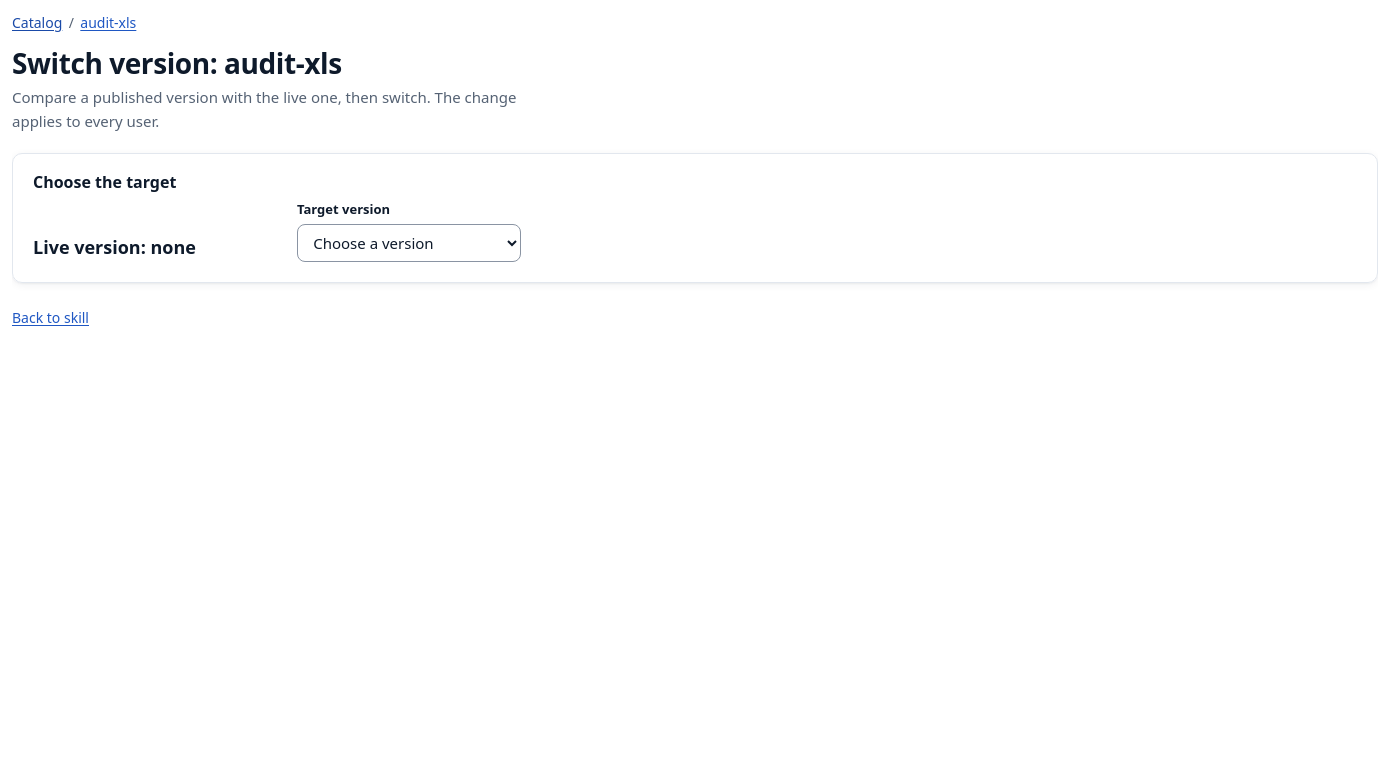
Scenario: Switch › keeps the confirm button disabled until the change is acknowledged
Select "v1" in the dropdown labelled "Target version": (409, 242) top-left (297, 224), bottom-right (521, 262)
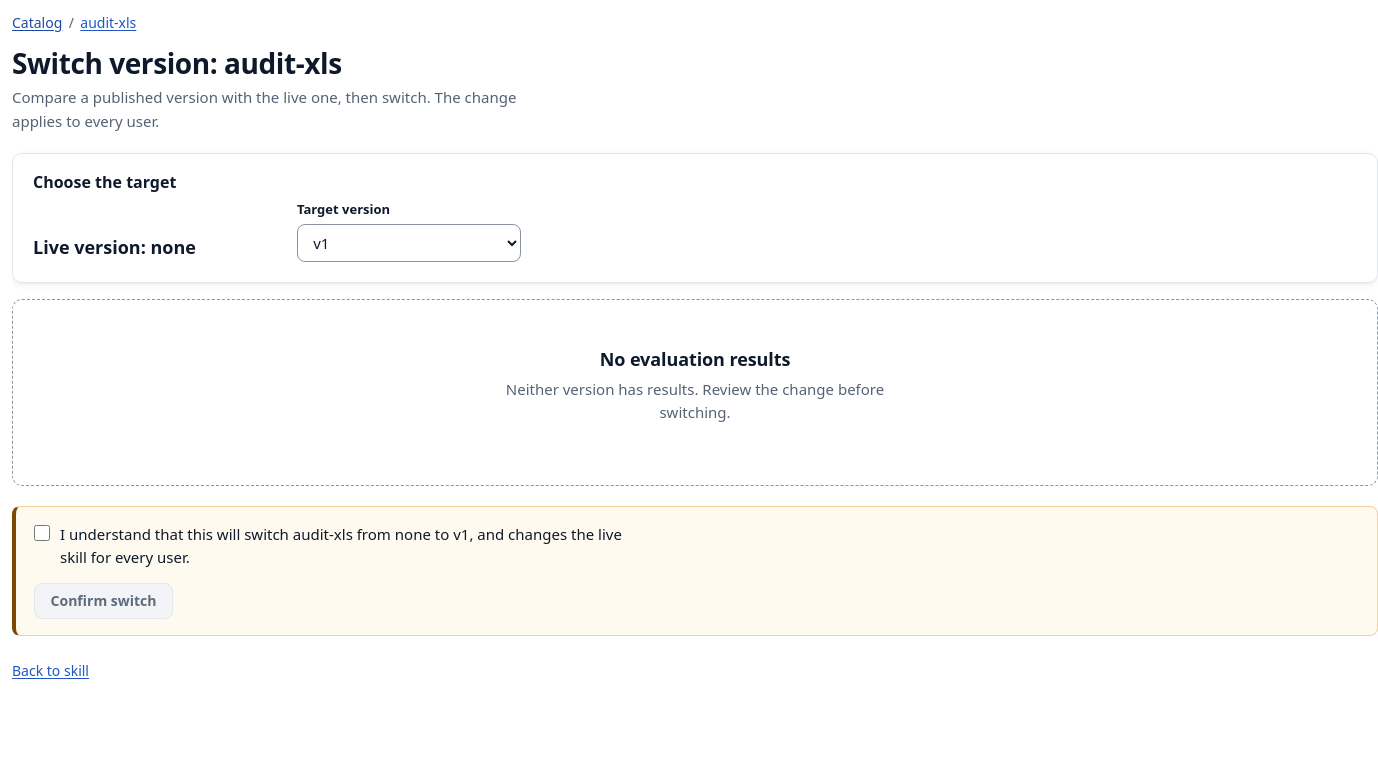
Expected: the button "Confirm switch" is disabled, top-left (34, 583), bottom-right (173, 619)
Click the checkbox labelled "I understand": (42, 533) top-left (34, 525), bottom-right (50, 541)
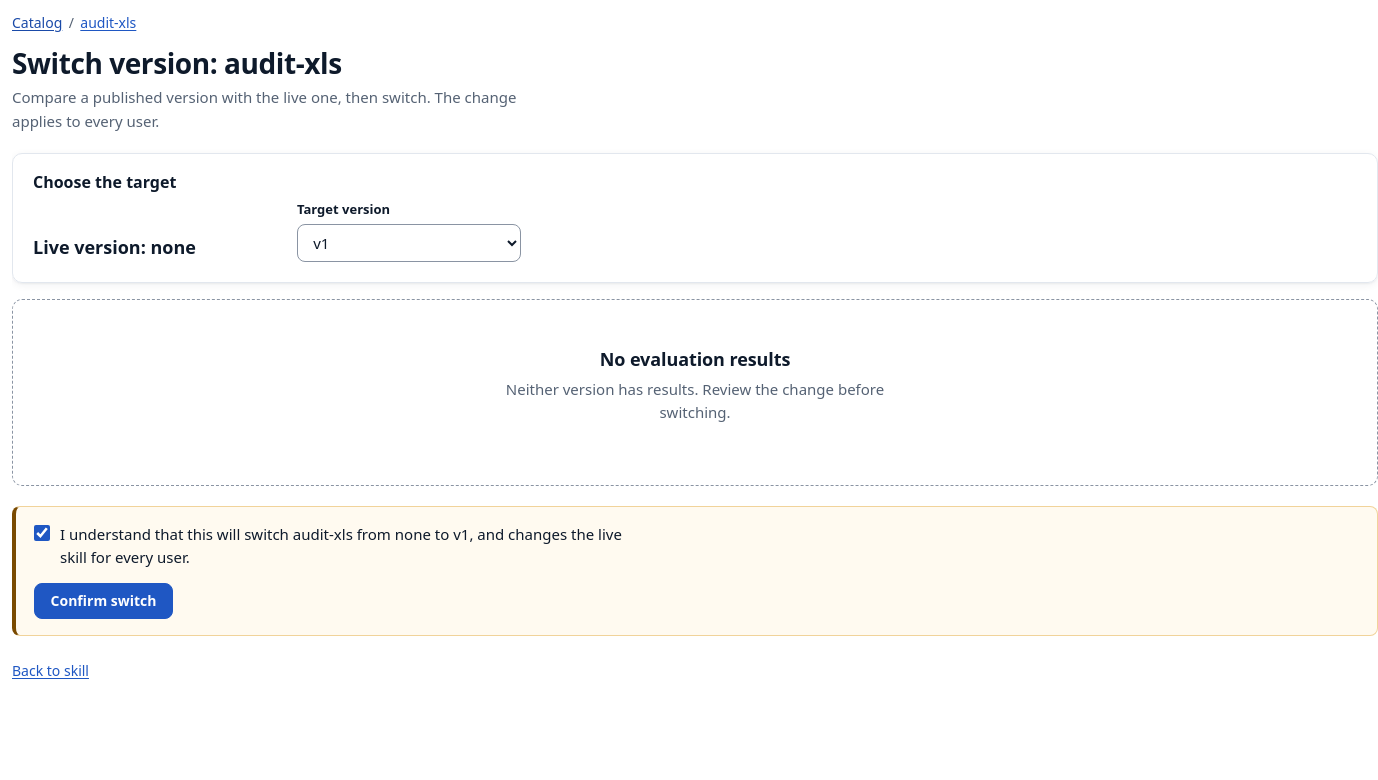
Expected: the button "Confirm switch" is enabled, top-left (34, 583), bottom-right (173, 619)
